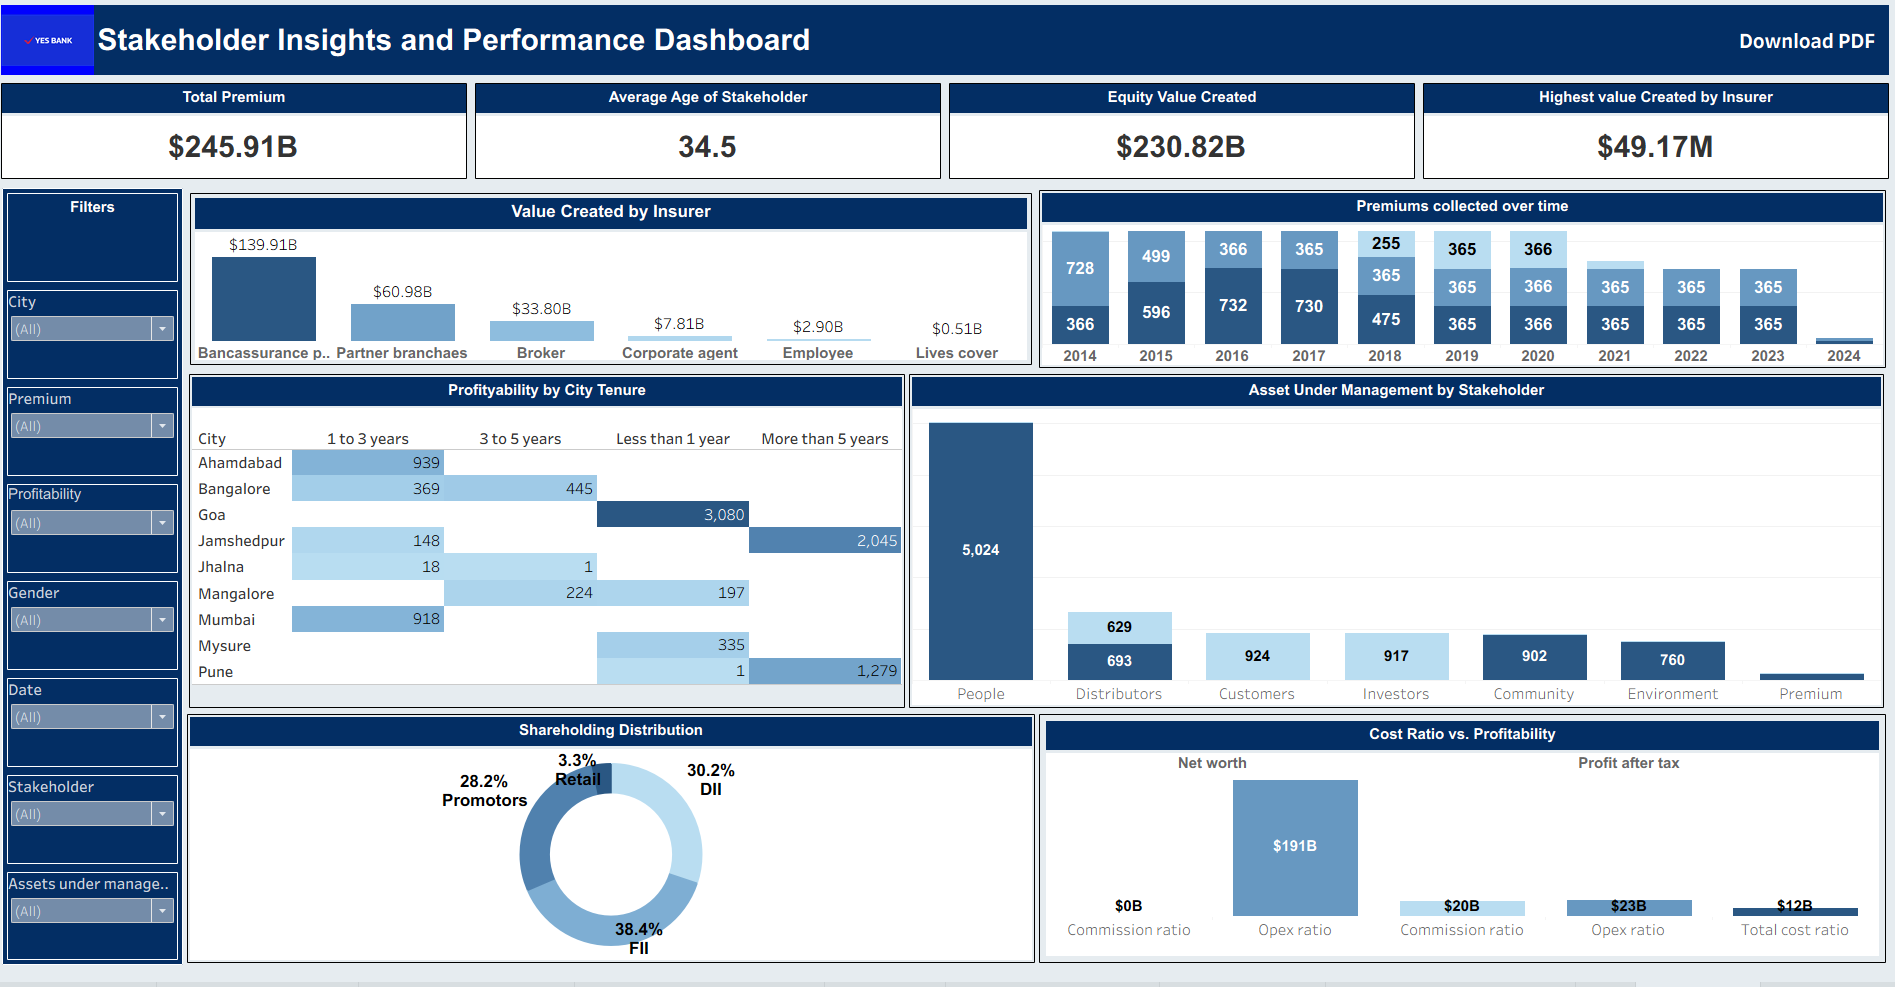

The page's visual inventory and layout, read from the dashboard file:
{"tool":"tableau","page":{"name":"Dashboard 1","canvas":[1000,1000],"units":"permille","ordinal":0},"visuals":[{"type":"image","param":"C:/Users/anish/Downloads/Yes_Bank_Logo-01.png","box":[9.7,20,56.1,87.4]},{"type":"text","box":[65.8,20,825.6,87.4]},{"type":"dashboard-object","box":[891.4,20,99,87.4]},{"type":"worksheet","title":"Total Premium","mark":"Automatic","box":[7.2,112.4,246.8,129.8]},{"type":"worksheet","title":"Average Age of Stakeholder","mark":"Automatic","box":[254.1,112.4,246.2,129.8]},{"type":"worksheet","title":"Equity Value Created","mark":"Automatic","box":[500.3,112.4,246.2,129.8]},{"type":"worksheet","title":"Highest value Created by Insurer","mark":"Automatic","box":[746.5,112.4,246.2,129.8]},{"type":"worksheet","title":"Value Created by Insurer","mark":"Automatic","rows":["Value Created"],"cols":["Insurer"],"box":[120.7,248.4,434.5,227.2]},{"type":"worksheet","title":"Premiums collected over time","mark":"Bar","rows":["Premium 1"],"cols":["Date"],"box":[555.2,248.4,434.5,227.2]},{"type":"worksheet","title":"Filters","mark":"Automatic","box":[10.9,249.7,108,91.1]},{"type":"filter","title":"Filters","param":"[federated.09mzw0d0lkeefx14y59ia02sfnjk].[none:City:nk]","box":[10.9,340.8,108,91.1]},{"type":"filter","title":"Filters","param":"[federated.09mzw0d0lkeefx14y59ia02sfnjk].[none:Premium 1:nk]","box":[10.9,432,108,91.1]},{"type":"worksheet","title":"Profityability by City Tenure","mark":"Square","rows":["City"],"cols":["Policy tenuer"],"box":[121.9,478.2,434.5,277.1]},{"type":"worksheet","title":"Asset Under Management by Stakeholder","mark":"Automatic","rows":["Assets under management"],"cols":["Stakeholder"],"box":[556.4,478.2,432.1,277.1]},{"type":"filter","title":"Filters","param":"[federated.09mzw0d0lkeefx14y59ia02sfnjk].[none:Profitability:nk]","box":[10.9,523.1,108,91.1]},{"type":"filter","title":"Filters","param":"[federated.09mzw0d0lkeefx14y59ia02sfnjk].[none:Gender:nk]","box":[10.9,614.2,108,91.1]},{"type":"filter","title":"Filters","param":"[federated.09mzw0d0lkeefx14y59ia02sfnjk].[md:Date:ok]","box":[10.9,705.4,108,91.1]},{"type":"worksheet","title":"Shareholding Distribution","mark":"Pie","rows":["Calculation_745627261612826624","Calculation_745627261612826624"],"box":[120.7,757.8,434.5,221]},{"type":"worksheet","title":"Cost Ratio vs. Profitability","mark":"Automatic","rows":["Value Created"],"cols":["Profitability","Cost ratio"],"box":[555.2,757.8,434.5,221]},{"type":"filter","title":"Filters","param":"[federated.09mzw0d0lkeefx14y59ia02sfnjk].[none:Stakeholder:nk]","box":[10.9,796.5,108,91.1]},{"type":"filter","title":"Filters","param":"[federated.09mzw0d0lkeefx14y59ia02sfnjk].[none:Assets under management:nk]","box":[10.9,887.6,108,89.9]}]}

Visuals, with their boxes on the dashboard's canvas, which has no fixed pixel size, in thousandths of its width and height (x1, y1, x2, y2). These are canvas units, not pixel positions in the 1895x987 screenshot, which may show the page scaled, cropped or inside an application window:
image: box(10, 20, 66, 107)
text: box(66, 20, 891, 107)
dashboard-object: box(891, 20, 990, 107)
"Total Premium" worksheet: box(7, 112, 254, 242)
"Average Age of Stakeholder" worksheet: box(254, 112, 500, 242)
"Equity Value Created" worksheet: box(500, 112, 746, 242)
"Highest value Created by Insurer" worksheet: box(746, 112, 993, 242)
"Value Created by Insurer" worksheet: box(121, 248, 555, 476)
"Premiums collected over time" worksheet (Bar marks): box(555, 248, 990, 476)
"Filters" worksheet: box(11, 250, 119, 341)
"Filters" filter: box(11, 341, 119, 432)
"Filters" filter: box(11, 432, 119, 523)
"Profityability by City Tenure" worksheet (Square marks): box(122, 478, 556, 755)
"Asset Under Management by Stakeholder" worksheet: box(556, 478, 988, 755)
"Filters" filter: box(11, 523, 119, 614)
"Filters" filter: box(11, 614, 119, 705)
"Filters" filter: box(11, 705, 119, 796)
"Shareholding Distribution" worksheet (Pie marks): box(121, 758, 555, 979)
"Cost Ratio vs. Profitability" worksheet: box(555, 758, 990, 979)
"Filters" filter: box(11, 796, 119, 888)
"Filters" filter: box(11, 888, 119, 978)
